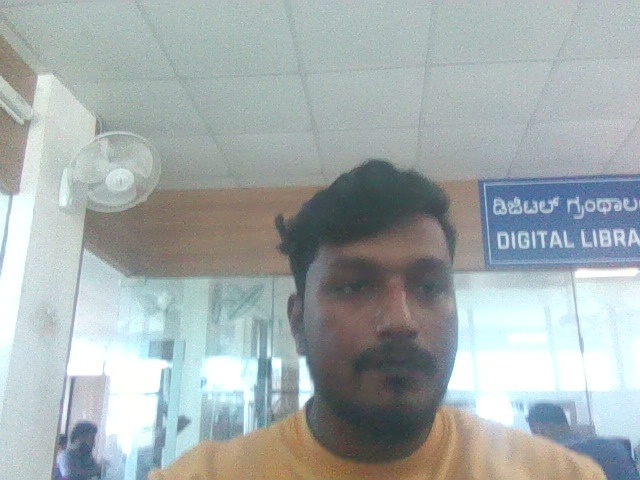real: (271, 134, 490, 445)
